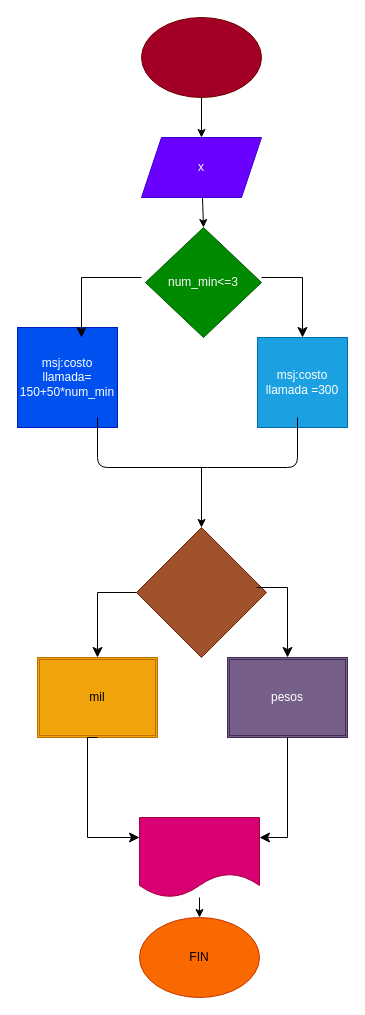
This 365x1015 diagram has some shape labels left out. The box of each missing label's shape, as (x1, y1, x2, y2) in pixels:
el valor de la llamada es de msj: (138, 816, 260, 898)
INICIO: (140, 16, 262, 98)
y=<999: (136, 526, 266, 658)
